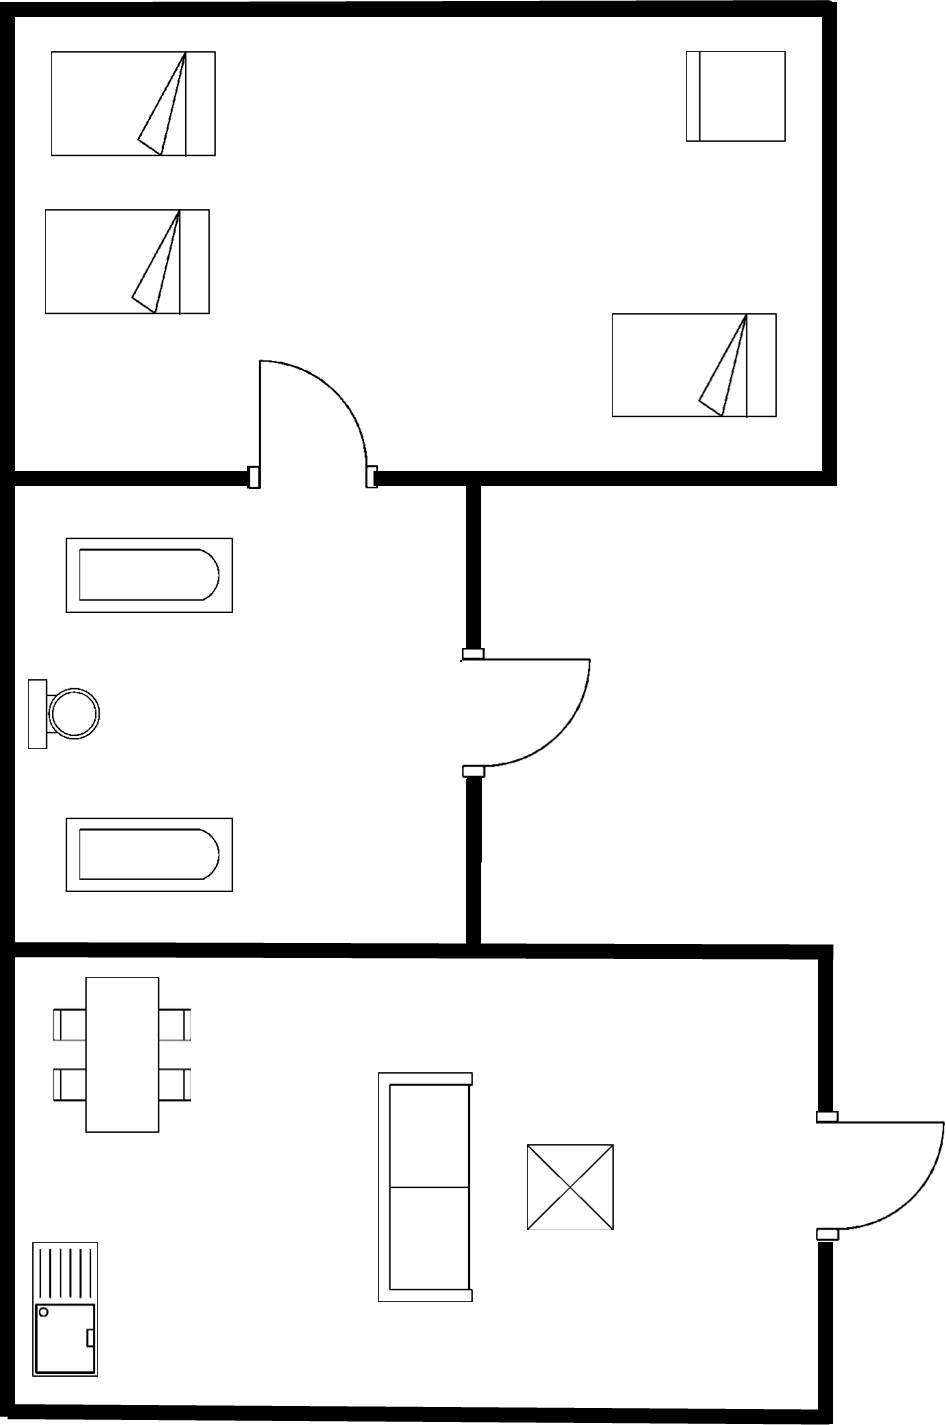bed: (598, 305, 787, 426), (40, 43, 222, 168), (37, 199, 216, 322)
dining_table: (41, 968, 205, 1141), (513, 1142, 616, 1243)
sink: (23, 1233, 105, 1383)
sofa: (365, 1062, 483, 1311)
toilet: (22, 672, 109, 754)
tub: (57, 527, 240, 622), (58, 807, 241, 900)
